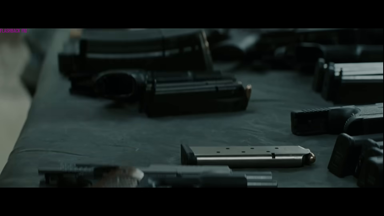firearm: (285, 99, 382, 188), (35, 166, 280, 190), (132, 71, 252, 119), (172, 140, 323, 166), (305, 55, 382, 102)
